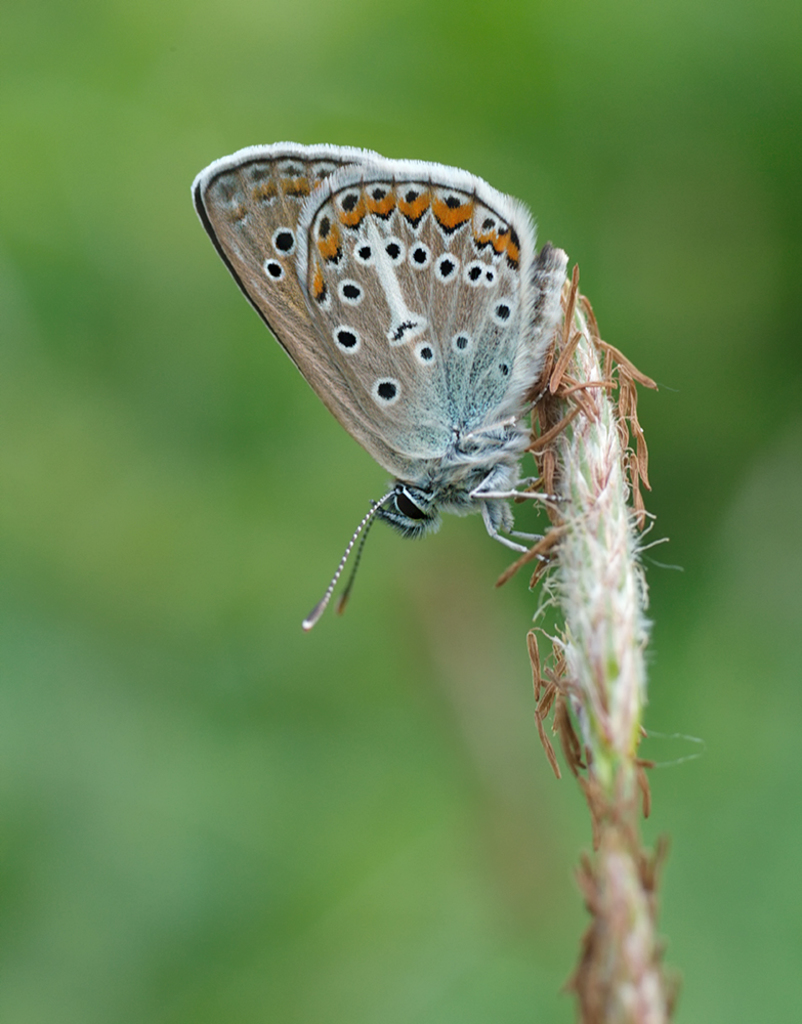Butterfly: (172, 145, 586, 644)
